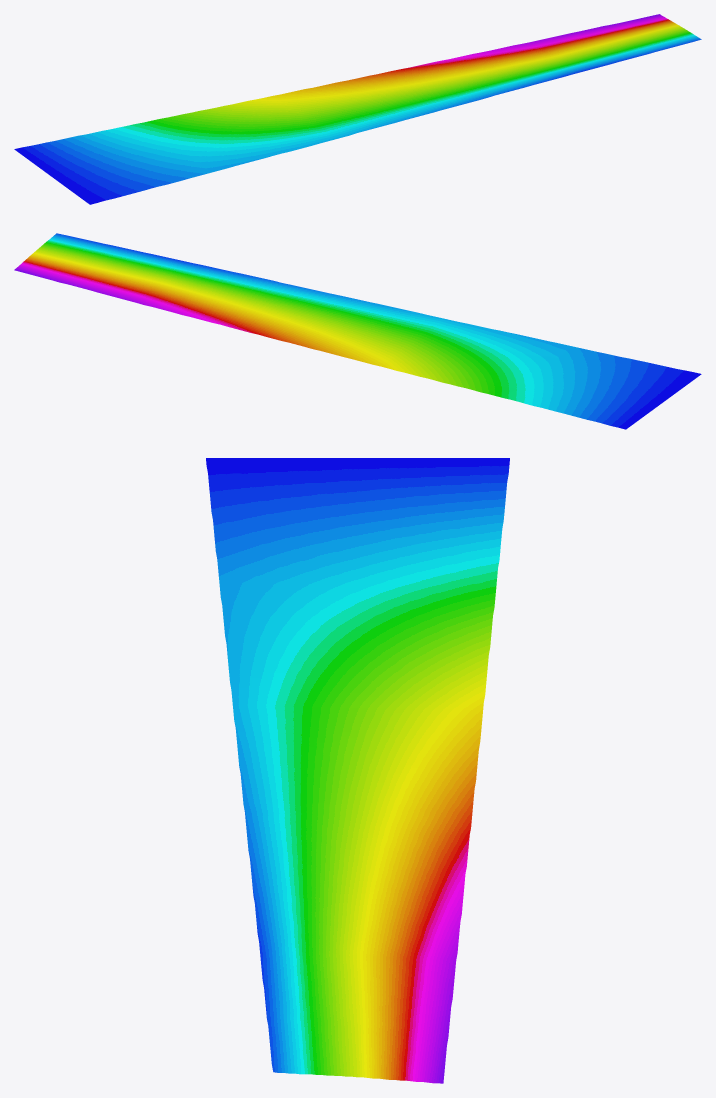
3 renders of one model, top to bottom at view 1: azimuth 30°, elevation 25°; view 2: azimuth 150°, elevation 25°; view 3: azimuth 270°, elevation 25°, orthographic. The views are drawn at different scales.
Visible parts, largest first — view 1: Elements; view 2: Elements; view 3: Elements.
Boxes of the visible parts, x1,y1,x2,y2 form: Elements: [14, 14, 701, 204]; Elements: [14, 233, 701, 429]; Elements: [206, 458, 509, 1083].
Bounding box in the file's own units: 1 × 0.00928 × 0.2096.
1 material, 1 textured.
